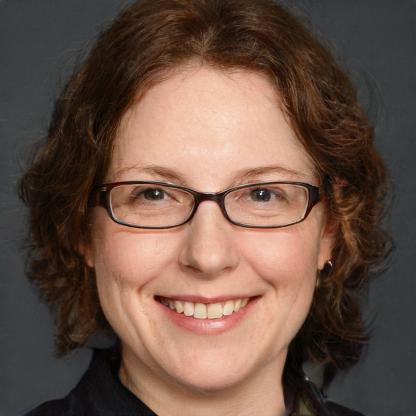glasses: (95, 175, 326, 231)
